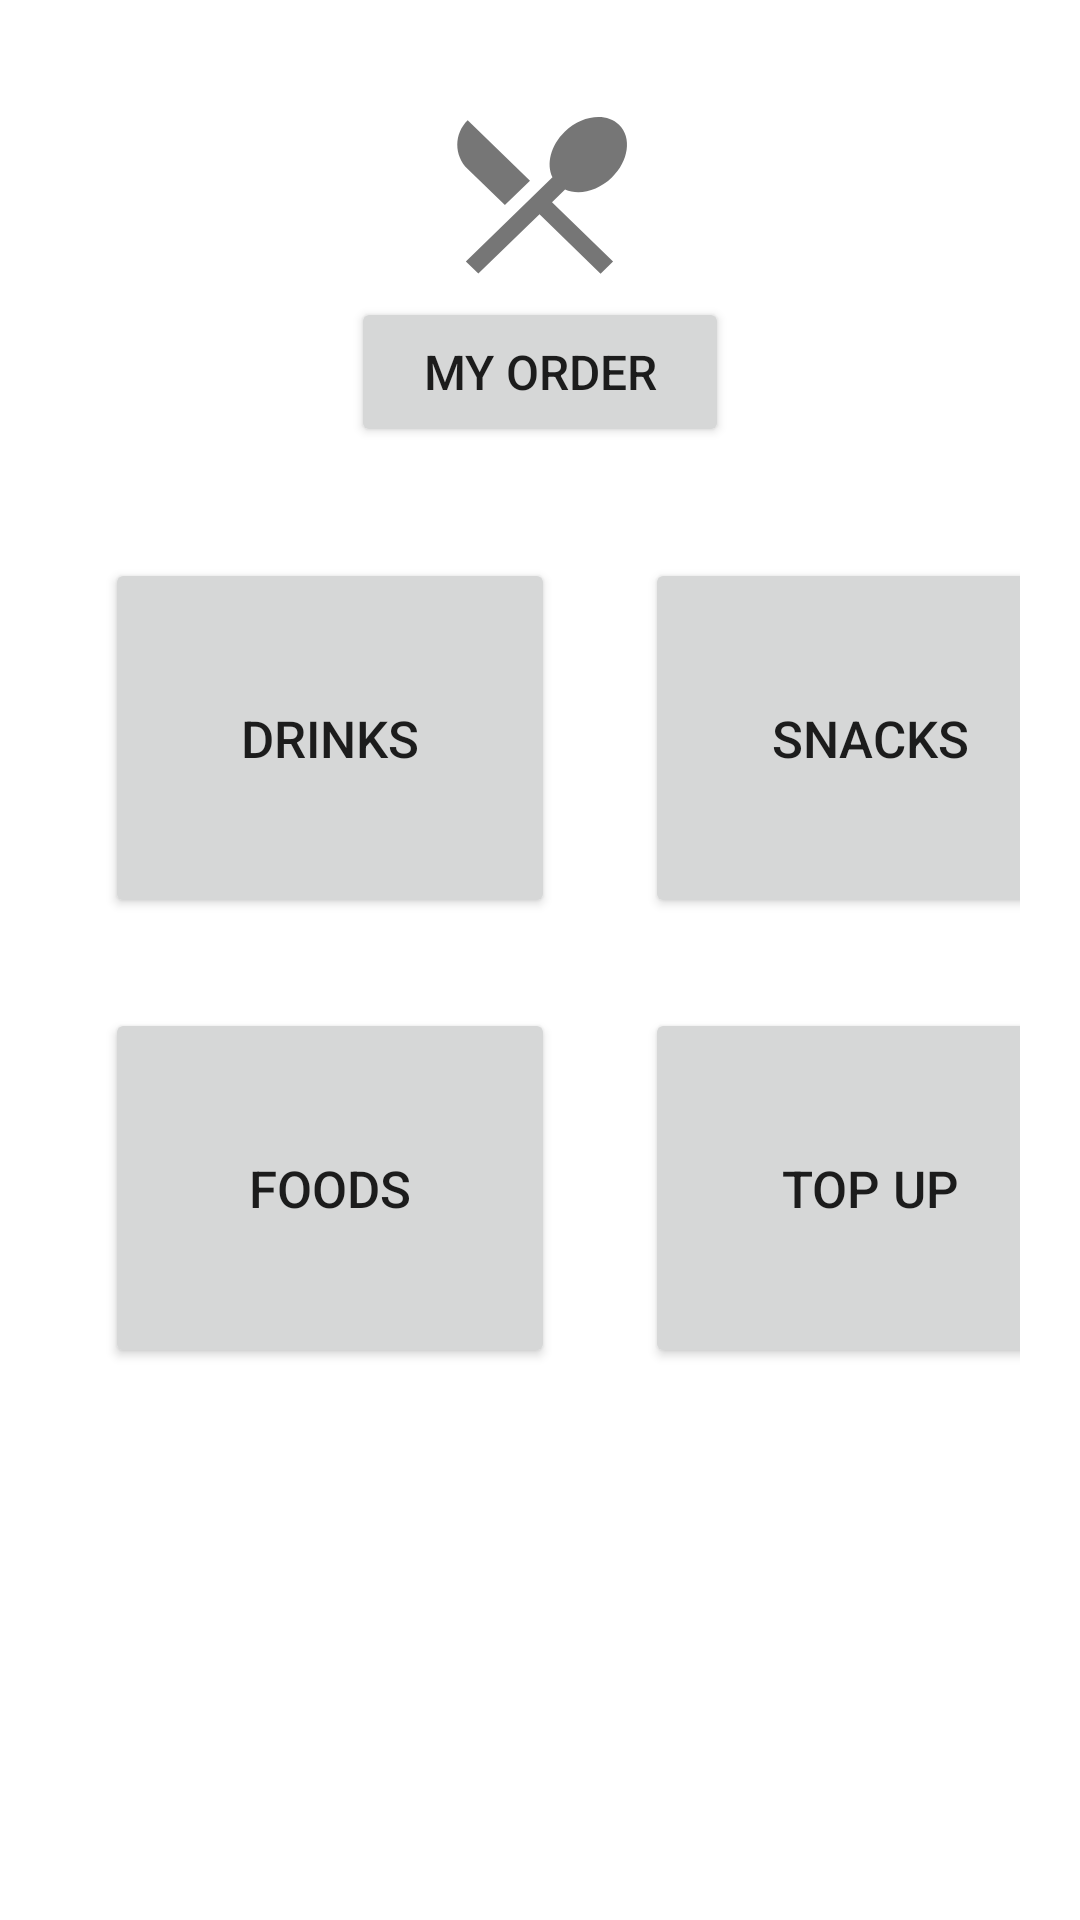

Icon click points for this 1080*1920 phone screenshot, format point (x, y):
local dining: point (542, 195)
